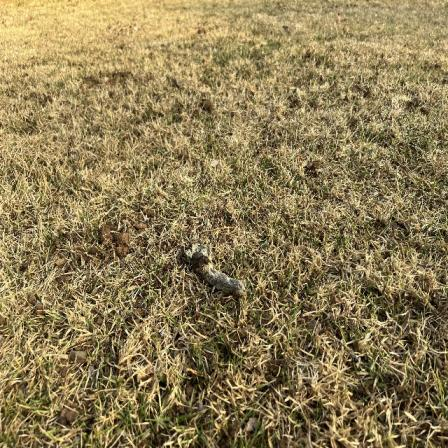dog-poop: (179, 234, 254, 299)
